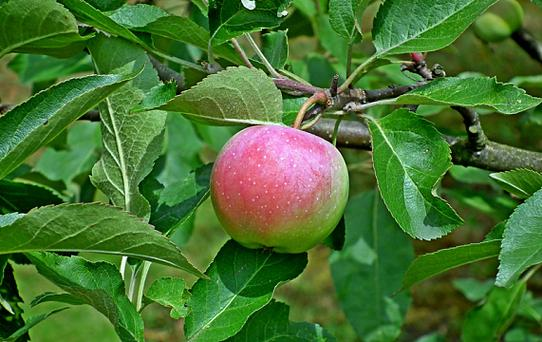unripe: (208, 117, 352, 258)
